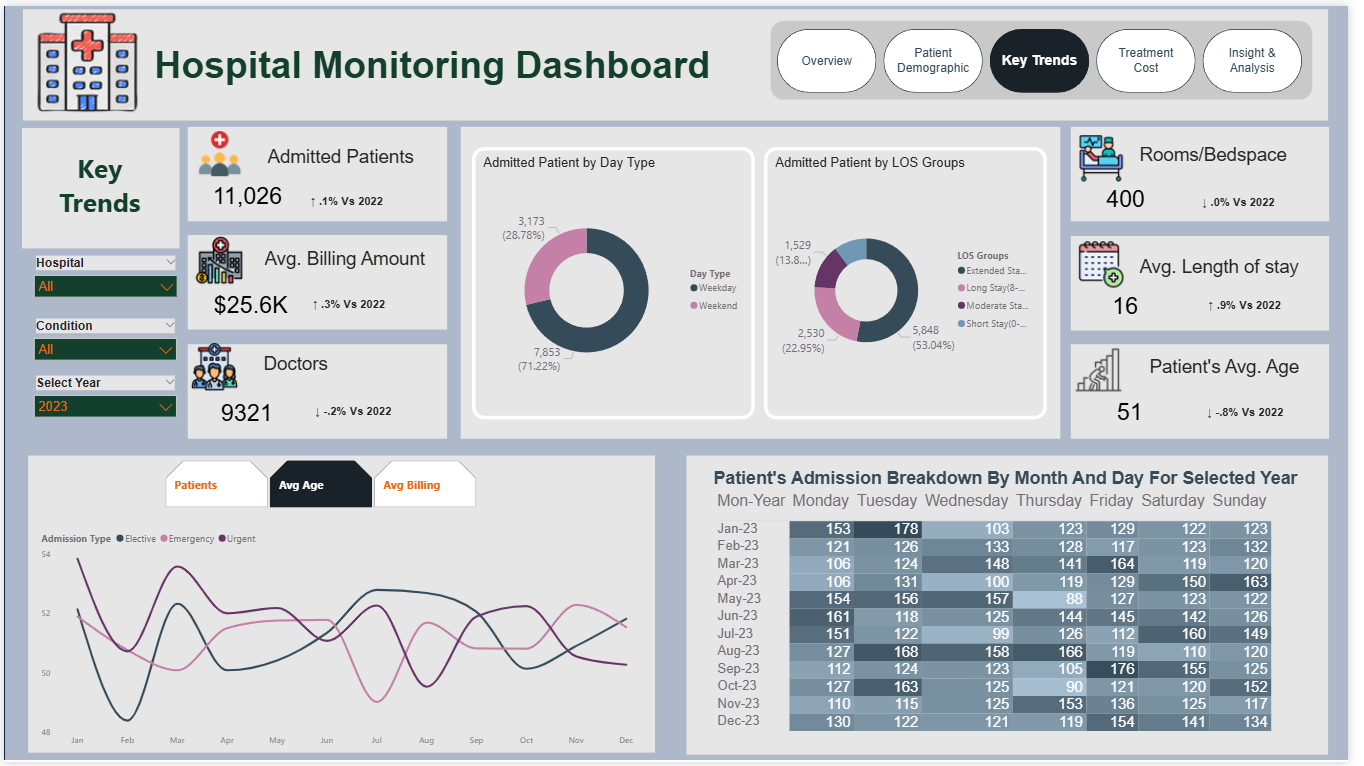

This screenshot's page, from the dashboard's own definition file:
{"tool":"powerbi","page":{"name":"Key Trends","canvas":[1920,1080],"ordinal":2},"visuals":[{"type":"card","fields":{"Values":["_DAXMeasure.Admitted Patient"]},"box":[290,242.1,115.7,58.5],"z":0},{"type":"textbox","box":[371.1,195.5,232.8,46.6],"z":1000},{"type":"textbox","box":[210.1,47.9,827.3,77.1],"z":2000},{"type":"slicer","fields":{"Values":["HealthstatData.Hospital"]},"box":[33.3,350.7,225.3,77.1],"z":3000},{"type":"slicer","fields":{"Values":["Dim_Condition.Medical Condition"]},"box":[33.3,441.4,223.7,86.2],"z":4000},{"type":"card","fields":{"Values":["_DAXMeasure.Admission YoY"]},"box":[405.7,262,167.6,38.6],"z":5000},{"type":"lineChart","fields":{"Y":["_DAXMeasure.Avg Age"],"Series":["HealthstatData.Admission Type"],"Category":["Dim_Date.Month Name"]},"box":[47.9,739.5,873.8,327.2],"z":6000},{"type":"textbox","box":[367.1,341.8,255.4,49.2],"z":7000},{"type":"textbox","box":[365.8,490.8,220.8,49.2],"z":8000},{"type":"textbox","box":[1617.3,192.9,252.7,50.5],"z":9000},{"type":"textbox","box":[1617.3,347.1,239.4,63.8],"z":10000},{"type":"textbox","box":[1632,496.1,224.8,62.5],"z":11000},{"type":"card","fields":{"Values":["_DAXMeasure.Avg Billimg Amount"]},"box":[290,395,125,61.2],"z":12000},{"type":"card","fields":{"Values":["_DAXMeasure.Bill YoY"]},"box":[421.6,411,142.3,31.9],"z":13000},{"type":"card","fields":{"Values":["_DAXMeasure.Doctors"]},"box":[300.6,558.6,94.4,42.6],"z":14000},{"type":"card","fields":{"Values":["_DAXMeasure.Doctors YoY"]},"box":[424.3,563.9,149,30.6],"z":15000},{"type":"card","fields":{"Values":["_DAXMeasure.Total Rooms"]},"box":[1546.8,244.7,110.4,59.9],"z":16000},{"type":"card","fields":{"Values":["_DAXMeasure.Rooms YoY"]},"box":[1691.8,267.3,143.6,29.3],"z":17000},{"type":"card","fields":{"Values":["_DAXMeasure.Average LOS"]},"box":[1556.2,387,91.8,81.1],"z":18000},{"type":"card","fields":{"Values":["_DAXMeasure.Avg. Los YoY"]},"box":[1703.8,411,135.7,34.6],"z":19000},{"type":"card","fields":{"Values":["_DAXMeasure.Avg Age"]},"box":[1560.1,540,97.1,77.1],"z":20000},{"type":"card","fields":{"Values":["_DAXMeasure.Average Age YoY"]},"box":[1707.8,566.6,131.7,25.3],"z":21000},{"type":"advancedSlicerVisual","fields":{"Values":["Parameter 3.Parameter"]},"box":[226.1,643.7,456.2,77.1],"z":22000},{"type":"pivotTable","title":"Patient''s Admission Breakdown By Month And Day For Selected Year","fields":{"Values":["_DAXMeasure.Admitted Patient"],"Columns":["Dim_Date.Day Name"],"Rows":["Dim_Date.Mon-Year"]},"box":[1008.6,660,857.1,420],"z":23000},{"type":"donutChart","fields":{"Category":["Dim_Date.Day Type"],"Y":["_DAXMeasure.Admitted Patient"]},"box":[668.6,201.4,404.3,388.6],"z":24000},{"type":"donutChart","fields":{"Y":["_DAXMeasure.Admitted Patient"],"Category":["HealthstatData.LOS Groups Modified"]},"box":[1085.7,201.4,404.3,388.6],"z":25000},{"type":"pageNavigator","box":[1103.9,33.3,752.8,91.8],"z":26000},{"type":"slicer","fields":{"Values":["Dim_Date.Year"]},"box":[33.3,523.1,223.7,78.6],"z":27000},{"type":"shape","box":[25.7,173.9,225.3,172.3],"z":28000},{"type":"textbox","box":[25.7,199.6,222.2,117.9],"z":29000}]}

Visuals, with their boxes in screenshot pixels (x1, y1, x2, y2), scaled from the page's 1920x1080 canvas onto the 1364x766 screenshot:
card - _DAXMeasure.Admitted Patient: <bbox>206, 172, 288, 213</bbox>
textbox: <bbox>264, 139, 429, 172</bbox>
textbox: <bbox>149, 34, 737, 89</bbox>
slicer - HealthstatData.Hospital: <bbox>24, 249, 184, 303</bbox>
slicer - Dim_Condition.Medical Condition: <bbox>24, 313, 183, 374</bbox>
card - _DAXMeasure.Admission YoY: <bbox>288, 186, 407, 213</bbox>
lineChart - _DAXMeasure.Avg Age x HealthstatData.Admission Type: <bbox>34, 524, 655, 757</bbox>
textbox: <bbox>261, 242, 442, 277</bbox>
textbox: <bbox>260, 348, 417, 383</bbox>
textbox: <bbox>1149, 137, 1328, 173</bbox>
textbox: <bbox>1149, 246, 1319, 291</bbox>
textbox: <bbox>1159, 352, 1319, 396</bbox>
card - _DAXMeasure.Avg Billimg Amount: <bbox>206, 280, 295, 324</bbox>
card - _DAXMeasure.Bill YoY: <bbox>300, 292, 401, 314</bbox>
card - _DAXMeasure.Doctors: <bbox>214, 396, 281, 426</bbox>
card - _DAXMeasure.Doctors YoY: <bbox>301, 400, 407, 422</bbox>
card - _DAXMeasure.Total Rooms: <bbox>1099, 174, 1177, 216</bbox>
card - _DAXMeasure.Rooms YoY: <bbox>1202, 190, 1304, 210</bbox>
card - _DAXMeasure.Average LOS: <bbox>1106, 274, 1171, 332</bbox>
card - _DAXMeasure.Avg. Los YoY: <bbox>1210, 292, 1307, 316</bbox>
card - _DAXMeasure.Avg Age: <bbox>1108, 383, 1177, 438</bbox>
card - _DAXMeasure.Average Age YoY: <bbox>1213, 402, 1307, 420</bbox>
advancedSlicerVisual - Parameter 3.Parameter: <bbox>161, 457, 485, 511</bbox>
"Patient''s Admission Breakdown By Month And Day For Selected Year" pivotTable: <bbox>717, 468, 1325, 765</bbox>
donutChart - Dim_Date.Day Type x _DAXMeasure.Admitted Patient: <bbox>475, 143, 762, 418</bbox>
donutChart - _DAXMeasure.Admitted Patient x HealthstatData.LOS Groups Modified: <bbox>771, 143, 1059, 418</bbox>
pageNavigator: <bbox>784, 24, 1319, 89</bbox>
slicer - Dim_Date.Year: <bbox>24, 371, 183, 427</bbox>
shape: <bbox>18, 123, 178, 246</bbox>
textbox: <bbox>18, 142, 176, 225</bbox>
